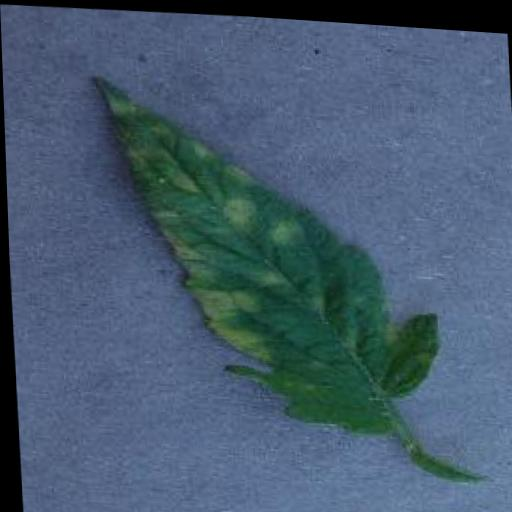Leaf Mold: (93, 67, 441, 439)
